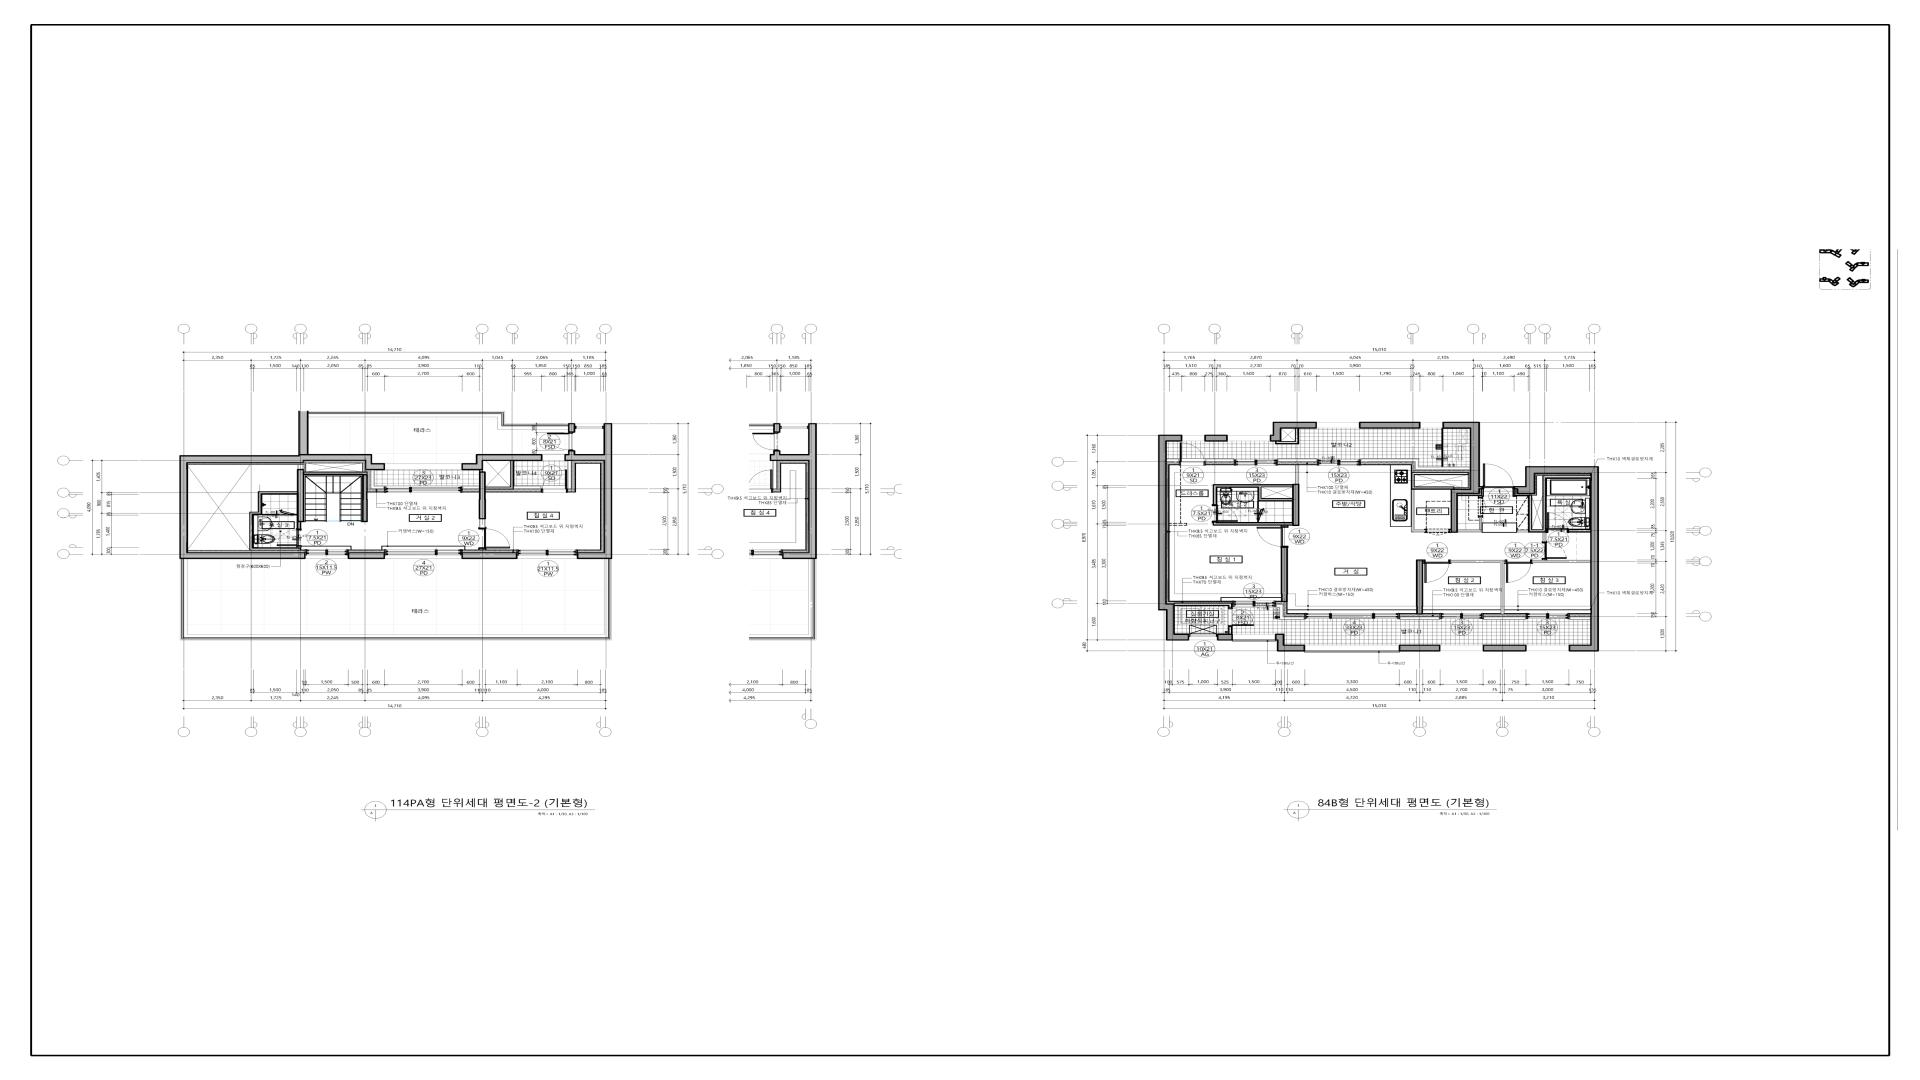door: (1482, 463, 1514, 489), (479, 527, 510, 550), (1257, 526, 1288, 547), (1423, 559, 1451, 583), (1505, 559, 1532, 583), (1179, 442, 1205, 465), (542, 469, 567, 493), (1212, 504, 1238, 522), (1542, 542, 1567, 560), (277, 529, 302, 547), (547, 433, 574, 450), (1547, 513, 1569, 533), (1425, 529, 1451, 535)
wall: (181, 559, 612, 640), (179, 410, 385, 559), (1514, 467, 1600, 651), (1158, 435, 1189, 641), (564, 423, 612, 559), (309, 411, 568, 430), (1443, 422, 1482, 533), (1518, 476, 1590, 533), (1411, 472, 1469, 533), (249, 492, 301, 551), (1451, 560, 1505, 615), (1213, 484, 1292, 505), (485, 462, 542, 489), (462, 454, 543, 471), (1361, 459, 1470, 469), (1270, 422, 1317, 442), (1275, 634, 1305, 651), (1275, 604, 1304, 620), (1280, 547, 1288, 601), (297, 469, 305, 522), (1360, 422, 1420, 429), (1275, 429, 1299, 444), (1458, 517, 1482, 533), (479, 472, 487, 520), (462, 553, 518, 559), (1416, 559, 1423, 615), (1213, 522, 1292, 526), (1175, 603, 1233, 608), (1482, 645, 1527, 651), (1292, 484, 1299, 526), (1399, 645, 1440, 651), (371, 471, 385, 489), (363, 475, 368, 522), (348, 553, 385, 559), (305, 472, 368, 475), (1204, 435, 1228, 442), (1532, 560, 1590, 563), (567, 462, 572, 489), (1484, 617, 1526, 620), (1399, 617, 1440, 620), (1217, 634, 1233, 641), (1278, 459, 1317, 462), (1569, 529, 1590, 533), (1205, 459, 1234, 462), (463, 485, 479, 489), (568, 423, 575, 433), (1569, 617, 1590, 620), (1228, 626, 1233, 634), (480, 520, 485, 527), (1543, 533, 1547, 542), (1167, 459, 1179, 462), (298, 464, 303, 469), (297, 522, 301, 529), (1480, 496, 1482, 497)
window: (1305, 645, 1399, 653), (385, 550, 462, 559), (1304, 613, 1399, 620), (385, 485, 463, 493), (518, 550, 576, 559), (385, 464, 462, 469), (306, 550, 348, 558), (1234, 459, 1278, 465), (1317, 459, 1361, 465), (1440, 613, 1484, 620), (1526, 613, 1569, 620), (1233, 600, 1275, 607), (1233, 634, 1275, 641), (1440, 645, 1482, 651), (1527, 645, 1569, 651), (1317, 422, 1358, 429), (1228, 435, 1270, 440), (575, 423, 604, 429), (1420, 422, 1443, 429), (1189, 634, 1217, 640), (1183, 435, 1204, 440), (543, 455, 564, 460)
